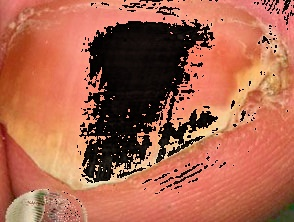Nail_psoriasis: (0, 0, 294, 200)
